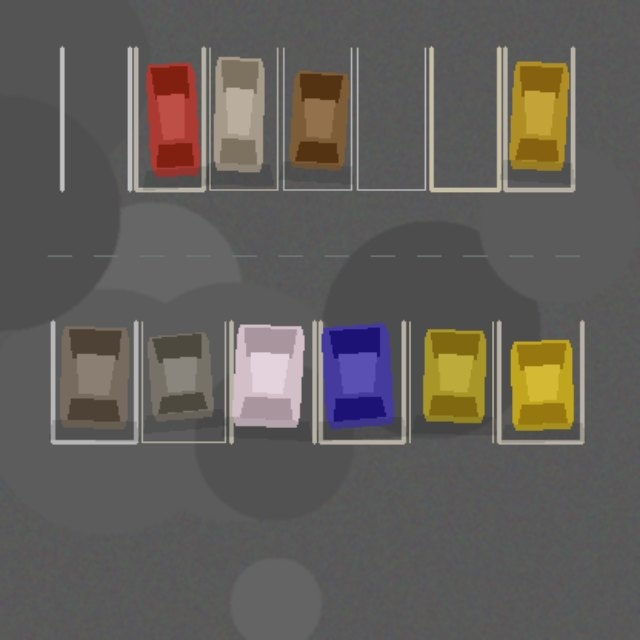space-empty: (357, 48, 425, 189), (62, 48, 129, 189), (431, 48, 498, 189)
space-occupied: (498, 322, 582, 442), (52, 322, 135, 442), (142, 322, 225, 442), (231, 322, 314, 442), (320, 322, 403, 442), (409, 322, 492, 442), (135, 48, 203, 189), (209, 48, 277, 189), (283, 48, 351, 189), (505, 48, 572, 189)
